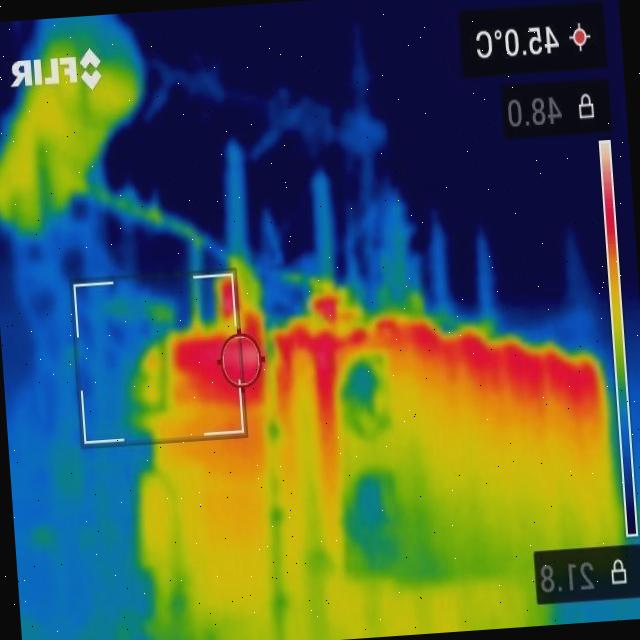full_wire_yellow: (101, 192, 201, 243)
loose_joint_yellow: (234, 253, 258, 310), (412, 290, 426, 317)
